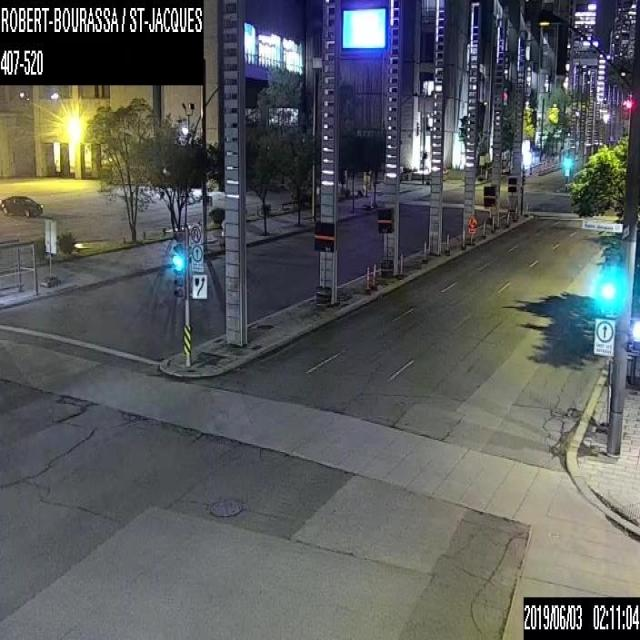construction: (465, 212, 478, 233), (398, 254, 402, 274), (365, 266, 368, 290), (372, 263, 375, 285), (423, 238, 426, 258), (445, 233, 448, 252), (482, 219, 485, 236), (491, 216, 494, 232), (524, 200, 527, 215), (506, 211, 509, 225), (513, 205, 516, 219)
vehicle: (0, 194, 42, 215)
